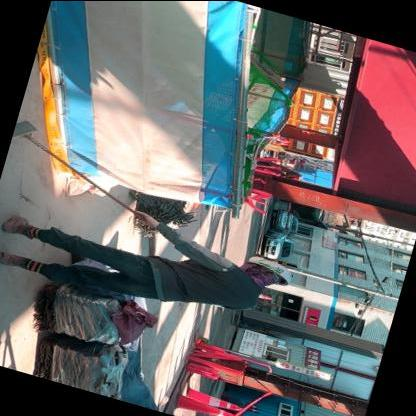Helmet: (243, 246, 296, 286)
safety-shoe: (1, 200, 48, 245), (1, 244, 44, 280)
